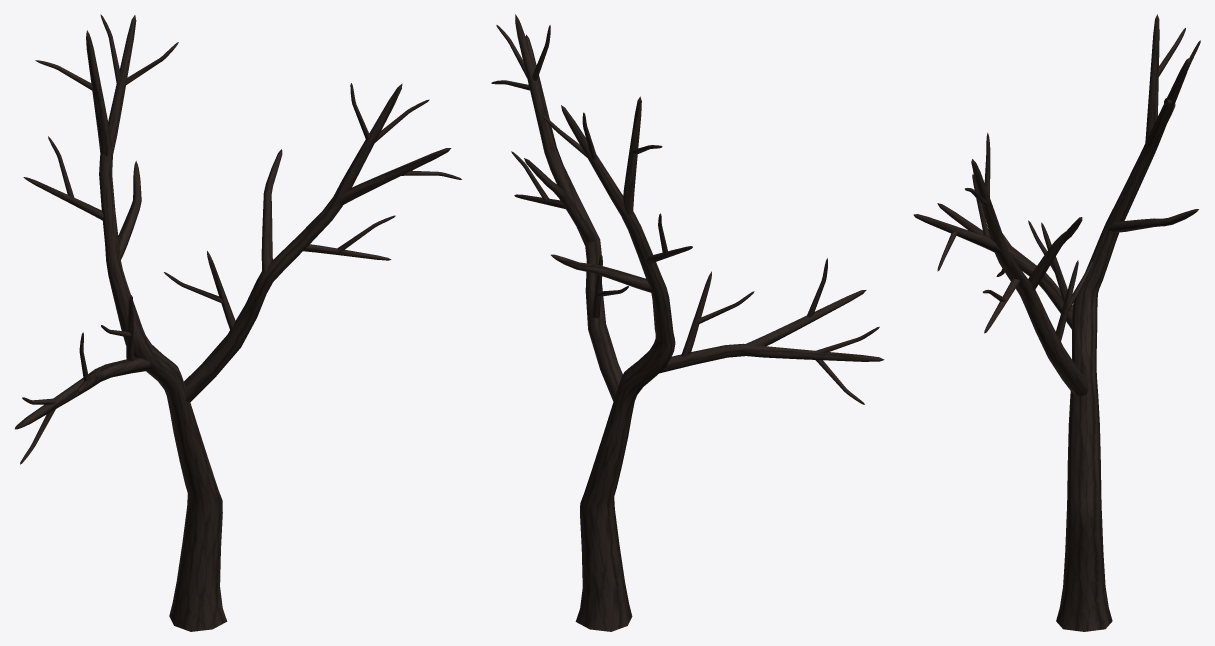
Rendered from dead_tree_10.glb.
3 renders of one model, left to right at view 1: azimuth 30°, elevation 25°; view 2: azimuth 150°, elevation 25°; view 3: azimuth 270°, elevation 25°, orthographic. The views are drawn at different scales.
Visible parts, largest first — view 1: DeadTree_102; view 2: DeadTree_102; view 3: DeadTree_102.
Part boxes in pixels (x1=…): DeadTree_102: x1=15, y1=14, x2=461, y2=631; DeadTree_102: x1=491, y1=14, x2=884, y2=631; DeadTree_102: x1=913, y1=14, x2=1200, y2=631.
Bounding box in the file's own units: 5.46 × 7.13 × 3.24.
1 material, 1 textured.
